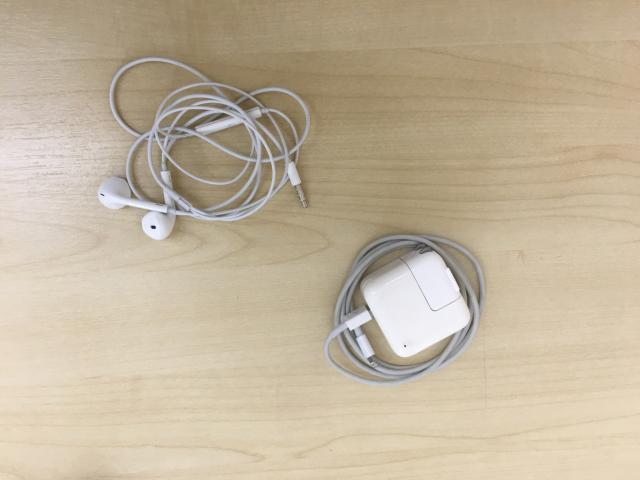wire: (98, 78, 313, 240), (322, 235, 481, 387)
